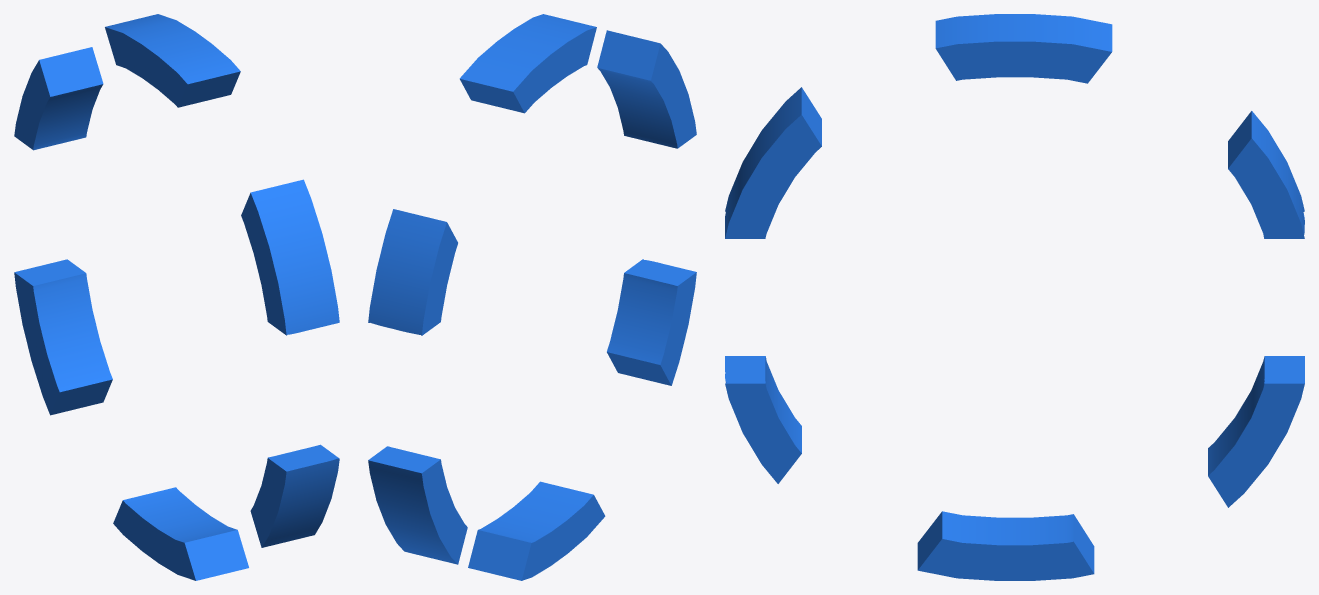
File: wheel.fbx
The picture shows the model from 3 angles, left to right: view 1: azimuth 30°, elevation 25°; view 2: azimuth 150°, elevation 25°; view 3: azimuth 270°, elevation 25°; orthographic projection. The views are drawn at different scales.
Parts seen in each view (by area): view 1: Cube; view 2: Cube; view 3: Cube.
Part boxes in pixels (box(x1,y1,x2,y2)): Cube: box(14, 14, 339, 580); Cube: box(368, 14, 696, 580); Cube: box(725, 14, 1304, 580).
Bounding box in the file's own units: 163 × 1487 × 1449.
